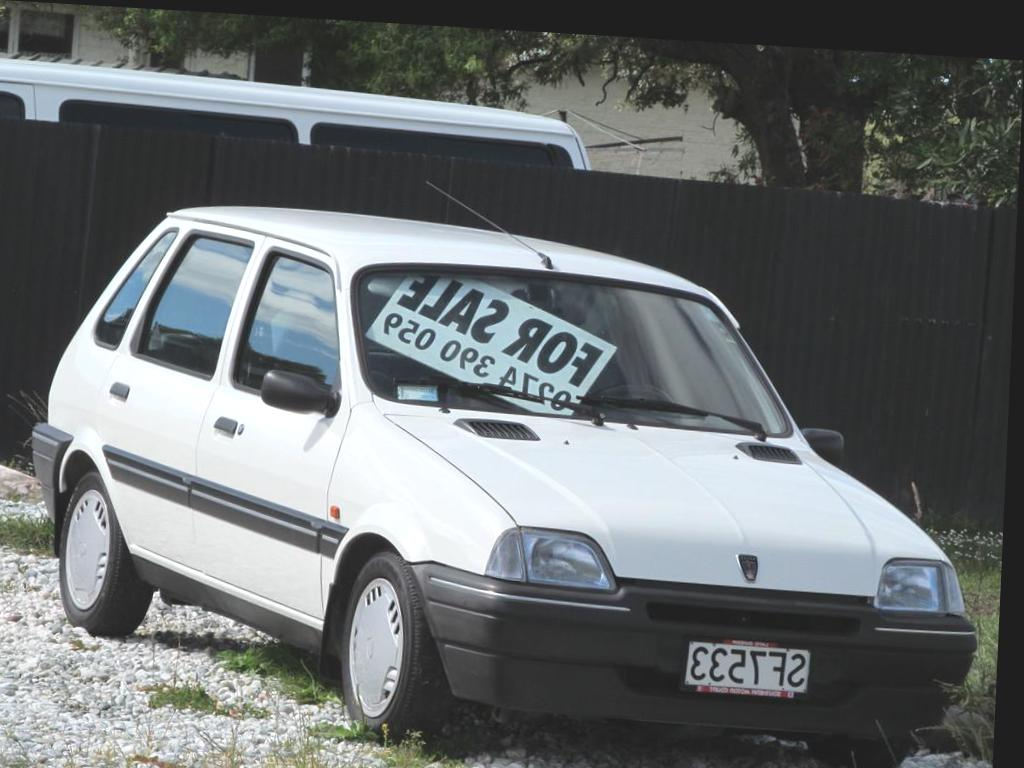License_Plate: (679, 634, 814, 705)
